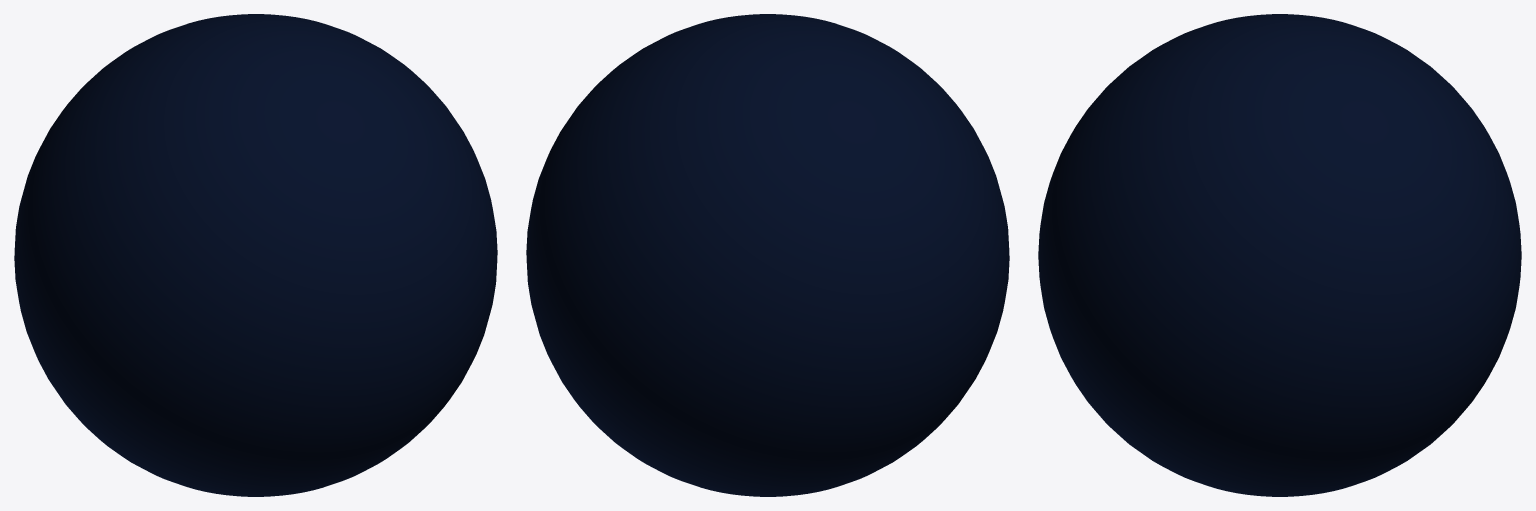
The model's file is earth.obj.
3 views of the same model, side by side, from view 1: azimuth 30°, elevation 25°; view 2: azimuth 150°, elevation 25°; view 3: azimuth 270°, elevation 25° (orthographic).
Parts seen in each view (by area): view 1: Earth; view 2: Earth; view 3: Earth.
Part boxes in pixels (x1=…): Earth: x1=14, y1=14, x2=497, y2=496; Earth: x1=526, y1=14, x2=1009, y2=496; Earth: x1=1038, y1=14, x2=1521, y2=496.
Bounding box in the file's own units: 5.13 × 5.13 × 5.13.
